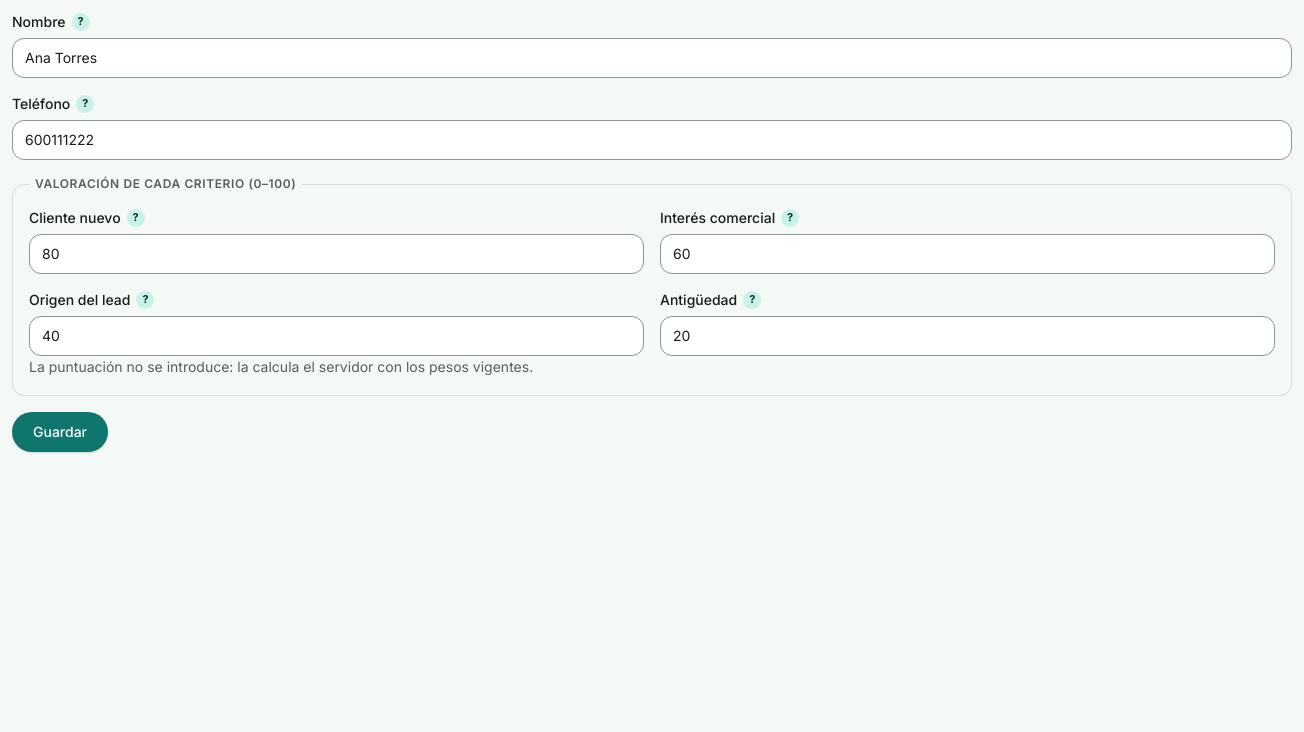
Scenario: LeadForm › ante un conflicto de versión avisa y permite recargar los datos
Later steps or results of the test are not shown.
Click the button "Guardar". click: (60, 432)
box: [12, 412, 108, 452]
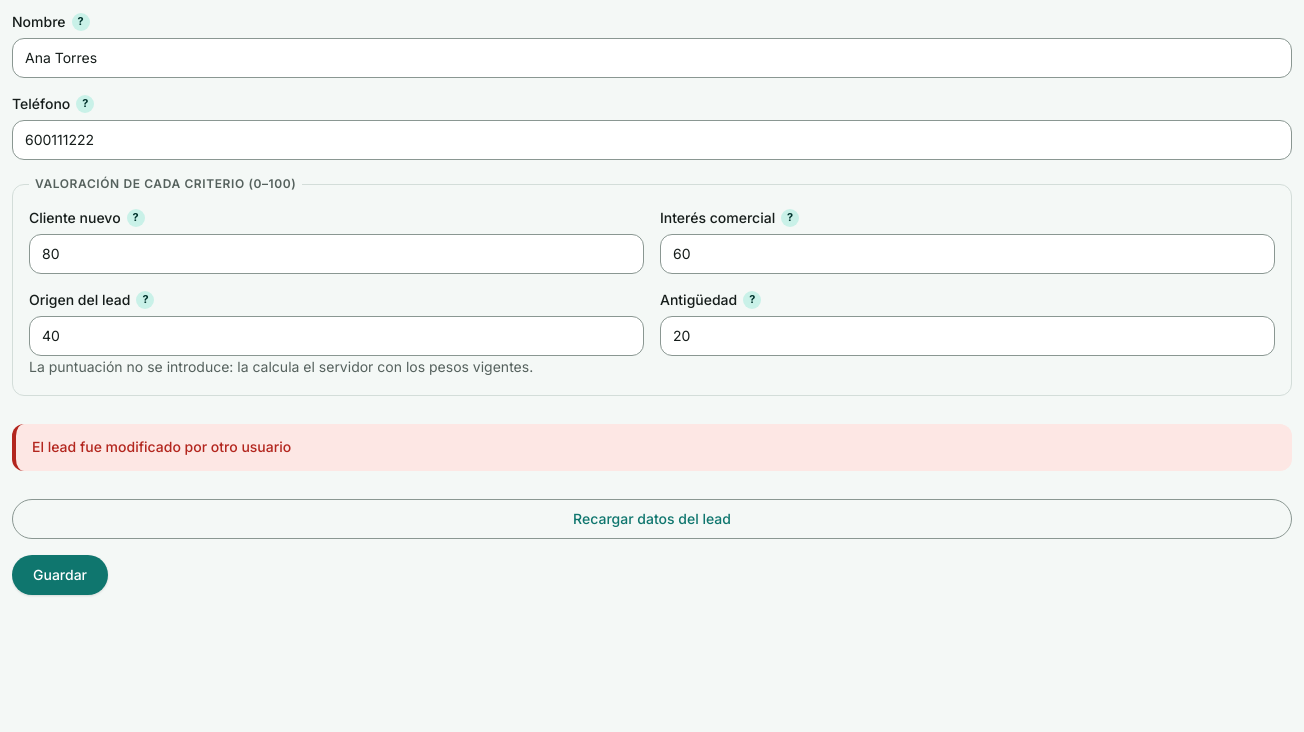
Expected: the message shows "modificado por otro usuario", [32, 438, 291, 455]
